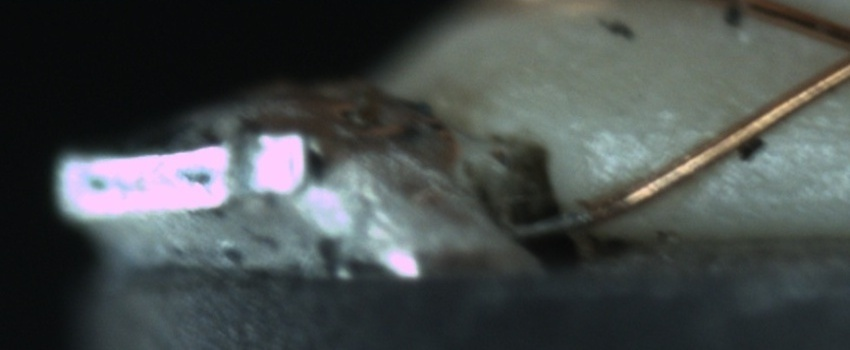CL: (829, 20, 850, 79)
DL: (611, 98, 850, 162)
TS: (509, 209, 593, 237)
